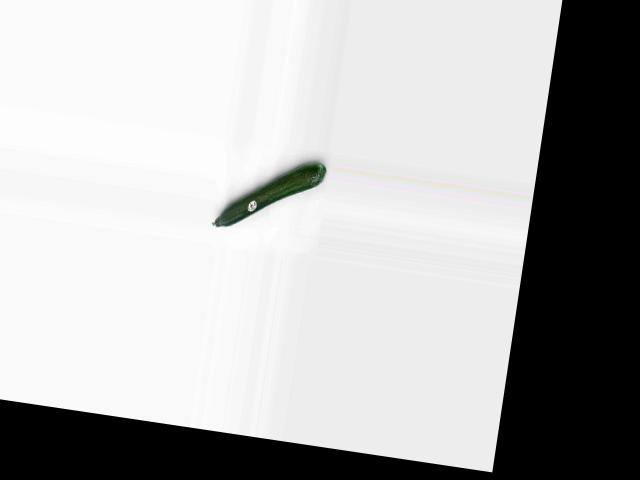cucumber: (211, 149, 326, 241)
